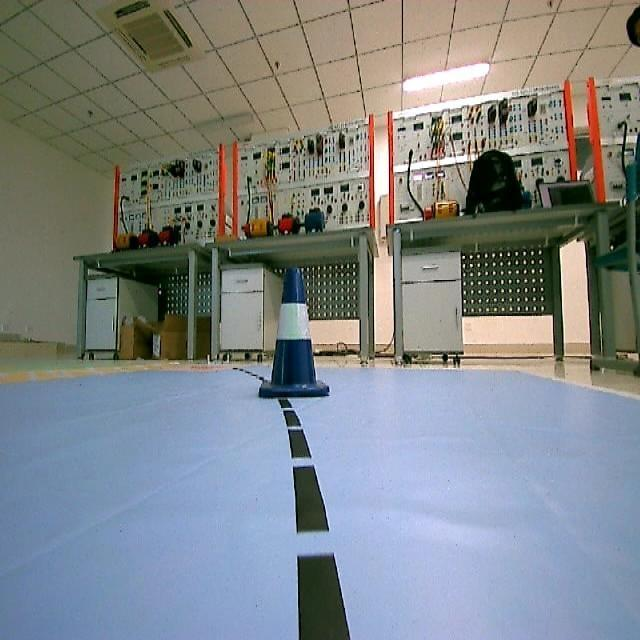obstacle: (248, 262, 334, 404)
